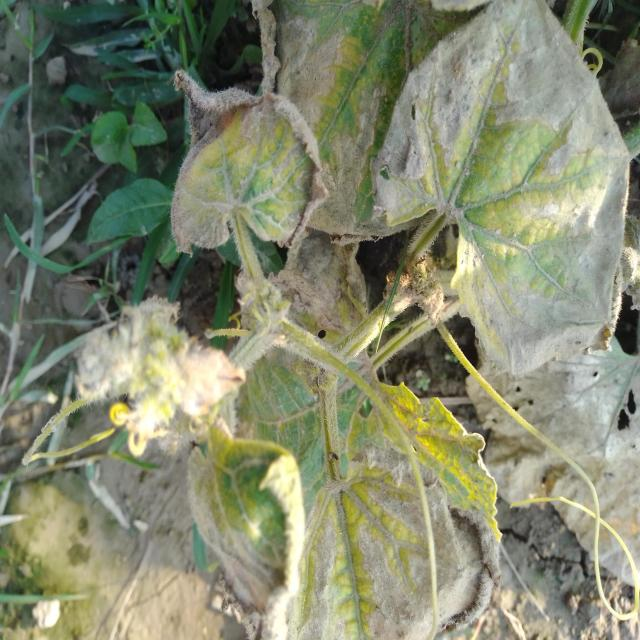cucumber_bacterial: (250, 304, 640, 640), (373, 6, 636, 373), (46, 275, 308, 640), (135, 0, 404, 271)
